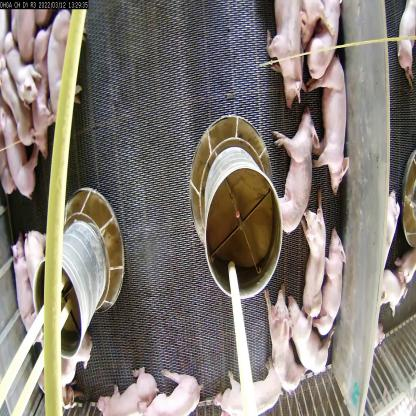Pig: (309, 49, 354, 208), (271, 113, 317, 236), (266, 282, 306, 398), (259, 1, 305, 100), (326, 223, 360, 349), (219, 354, 287, 416), (288, 298, 329, 385), (139, 365, 205, 416), (0, 32, 40, 114), (90, 367, 156, 415), (8, 223, 41, 317), (300, 205, 328, 311)
